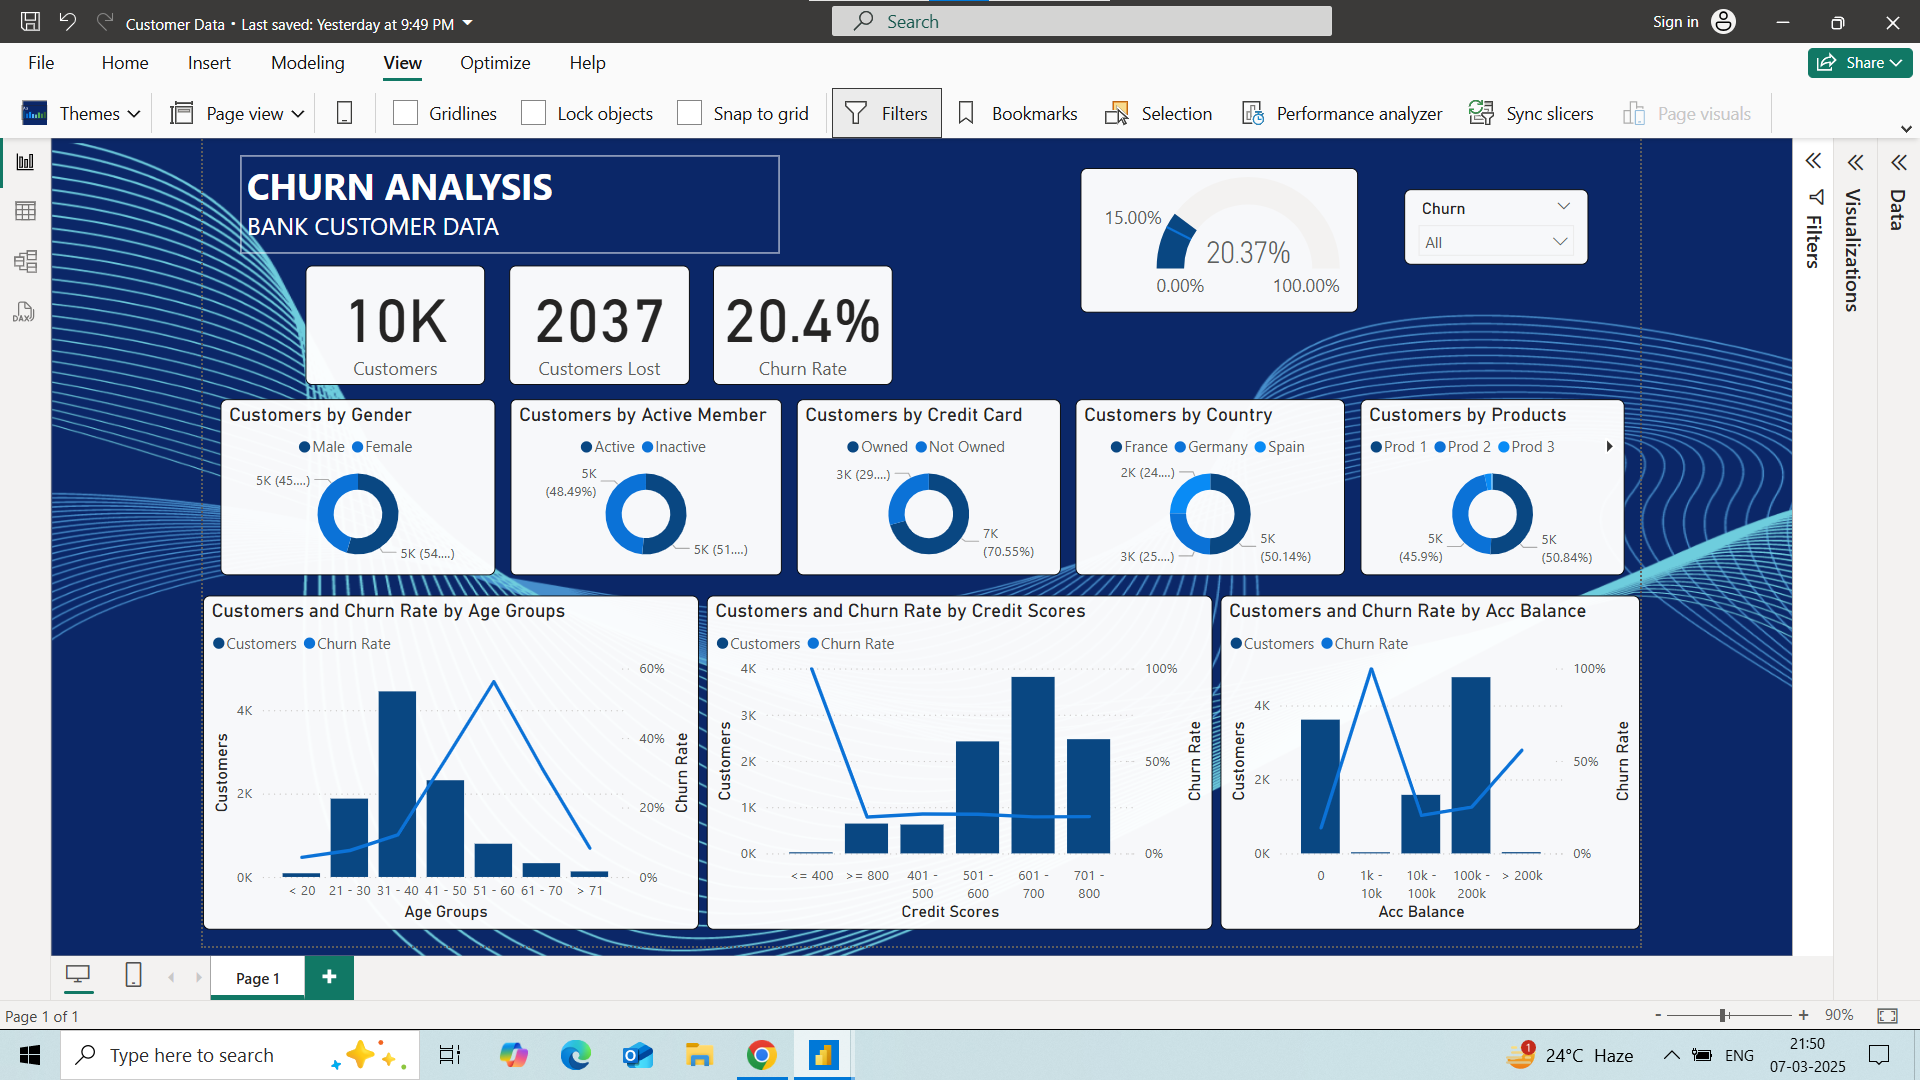

This screenshot's page, from the dashboard's own definition file:
{"tool":"powerbi","page":{"name":"Page 1","canvas":[1280,720],"ordinal":0},"visuals":[{"type":"card","fields":{"Values":["Customer Data.Churn Rate"]},"box":[453.6,113.4,160,106],"z":0},{"type":"card","fields":{"Values":["Customer Data.Customers Lost"]},"box":[272.4,113.4,160.5,106.2],"z":1000},{"type":"card","fields":{"Values":["Customer Data.Customers"]},"box":[91.7,113.4,160,106],"z":2000},{"type":"donutChart","fields":{"Y":["Customer Data.Customers"],"Category":["Customer Data.Gender"]},"box":[15.7,232.8,244.9,156.8],"z":3000},{"type":"donutChart","fields":{"Y":["Customer Data.Customers"],"Category":["Customer Data.Active Member"]},"box":[273.9,232.8,241.3,156.8],"z":4000},{"type":"donutChart","fields":{"Y":["Customer Data.Customers"],"Category":["Customer Data.Credit Card"]},"box":[528.4,232.8,235.3,156.8],"z":5000},{"type":"donutChart","fields":{"Y":["Customer Data.Customers"],"Category":["Customer Data.Country"]},"box":[776.9,232.8,240.1,156.8],"z":6000},{"type":"donutChart","fields":{"Y":["Customer Data.Customers"],"Category":["Customer Data.Products"]},"box":[1030.3,232.8,235.3,156.8],"z":7000},{"type":"lineStackedColumnComboChart","fields":{"Y":["Customer Data.Customers"],"Y2":["Customer Data.Churn Rate"],"Category":["Age Groups.Age Groups"]},"box":[0,407.8,441.6,298],"z":8000},{"type":"lineStackedColumnComboChart","fields":{"Y":["Customer Data.Customers"],"Y2":["Customer Data.Churn Rate"],"Category":["Credit Score Groups.Credit Scores"]},"box":[448.8,407.8,450,298],"z":9000},{"type":"lineStackedColumnComboChart","fields":{"Y":["Customer Data.Customers"],"Y2":["Customer Data.Churn Rate"],"Category":["Acc Balance.Acc Balance"]},"box":[906,407.8,374,298],"z":10000},{"type":"slicer","fields":{"Values":["Customer Data.Churn"]},"box":[1070.1,45.8,164.1,67.6],"z":11000},{"type":"gauge","fields":{"Y":["Customer Data.Churn Rate"],"MinValue":["Min(Customer Data.Min Churn Rate)"],"TargetValue":["Max(Customer Data.Target Churn Rate)"],"MaxValue":["Max(Customer Data.Max Churn Rate)"]},"box":[781.8,26.5,247.3,129.1],"z":12000},{"type":"textbox","box":[33.8,15.7,480.2,86.9],"z":13000}]}

Visuals, with their boxes on the page's 1280x720 design canvas (x1, y1, x2, y2). These are canvas units, not pixel positions in the 1920x1080 screenshot, which may show the page scaled, cropped or inside an application window:
card - Customer Data.Churn Rate: locate(454, 113, 614, 219)
card - Customer Data.Customers Lost: locate(272, 113, 433, 220)
card - Customer Data.Customers: locate(92, 113, 252, 219)
donutChart - Customer Data.Customers x Customer Data.Gender: locate(16, 233, 261, 390)
donutChart - Customer Data.Customers x Customer Data.Active Member: locate(274, 233, 515, 390)
donutChart - Customer Data.Customers x Customer Data.Credit Card: locate(528, 233, 764, 390)
donutChart - Customer Data.Customers x Customer Data.Country: locate(777, 233, 1017, 390)
donutChart - Customer Data.Customers x Customer Data.Products: locate(1030, 233, 1266, 390)
lineStackedColumnComboChart - Customer Data.Customers x Customer Data.Churn Rate: locate(0, 408, 442, 706)
lineStackedColumnComboChart - Customer Data.Customers x Customer Data.Churn Rate: locate(449, 408, 899, 706)
lineStackedColumnComboChart - Customer Data.Customers x Customer Data.Churn Rate: locate(906, 408, 1280, 706)
slicer - Customer Data.Churn: locate(1070, 46, 1234, 113)
gauge - Customer Data.Churn Rate x Min(Customer Data.Min Churn Rate): locate(782, 26, 1029, 156)
textbox: locate(34, 16, 514, 103)
